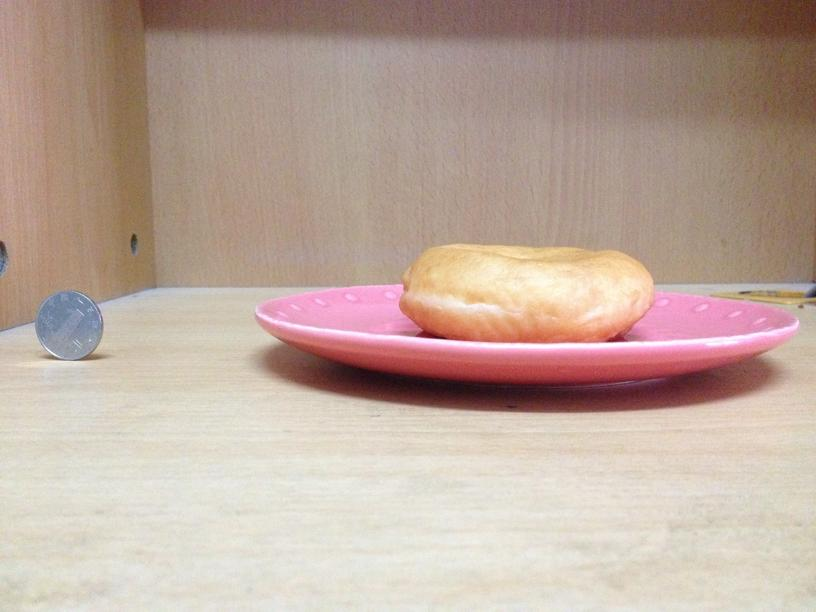coin: (33, 291, 103, 361)
doughnut: (397, 246, 656, 340)
